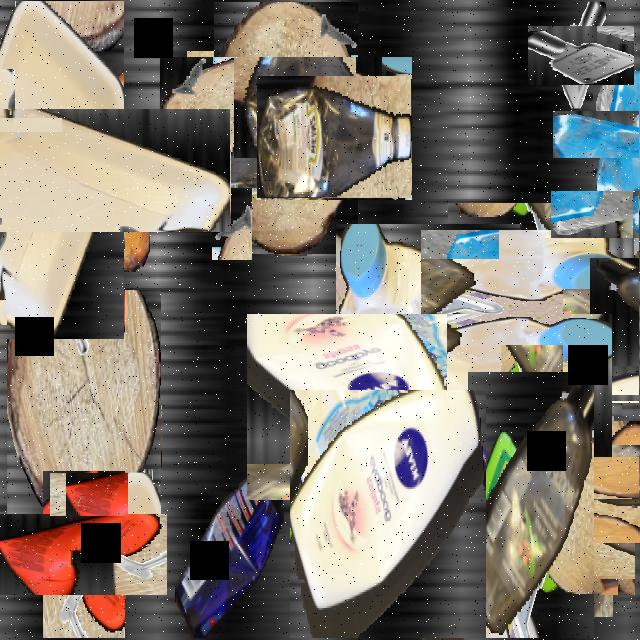glass: (187, 51, 271, 201), (355, 354, 417, 464), (571, 170, 640, 259), (546, 528, 624, 606), (572, 91, 640, 178), (592, 354, 640, 441)
metal: (540, 13, 622, 97), (501, 345, 563, 455), (0, 270, 62, 334), (59, 464, 120, 524), (212, 188, 252, 260), (0, 93, 38, 155)
plastic: (291, 269, 567, 545), (290, 390, 486, 638), (0, 55, 177, 286), (435, 216, 635, 417), (468, 372, 594, 638), (174, 450, 304, 638), (257, 76, 411, 198), (474, 416, 584, 580), (22, 492, 146, 617)
wood: (187, 29, 385, 227), (7, 290, 161, 524), (516, 430, 640, 557), (0, 166, 82, 300), (579, 438, 640, 517), (107, 183, 149, 272)
